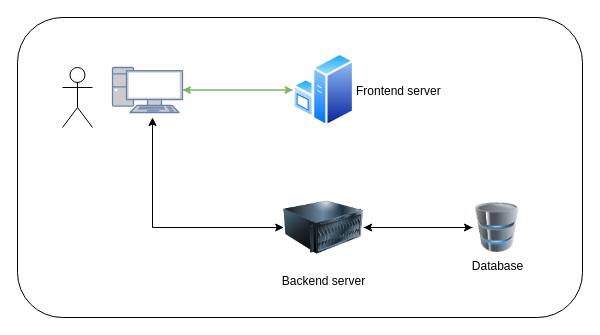
This 600x335 diagram has some shape labels left out. The shapes that lost their labels are listed below. From the top down, each one's centre as x and y in pixels, then its label:
(77,97): Usuario
(147,89): Client
